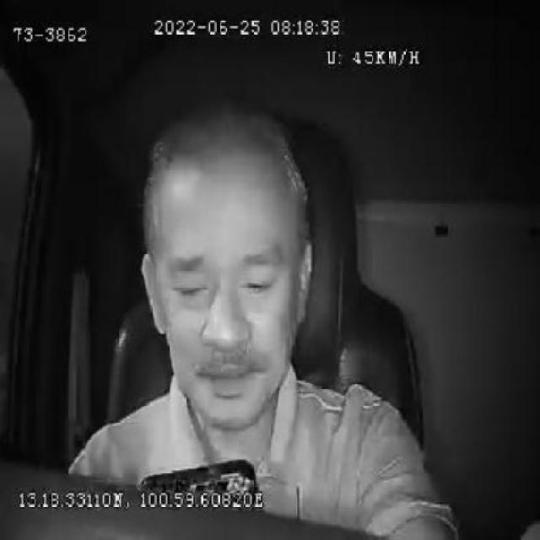phone: (142, 456, 260, 489)
